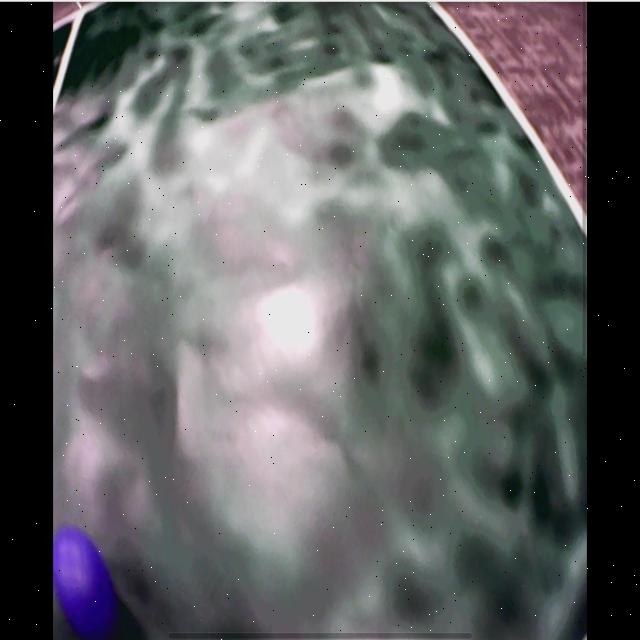ball: (55, 527, 117, 637)
